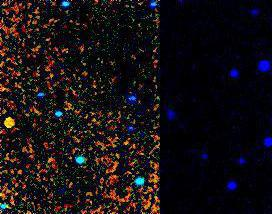star: (0, 106, 29, 136)
